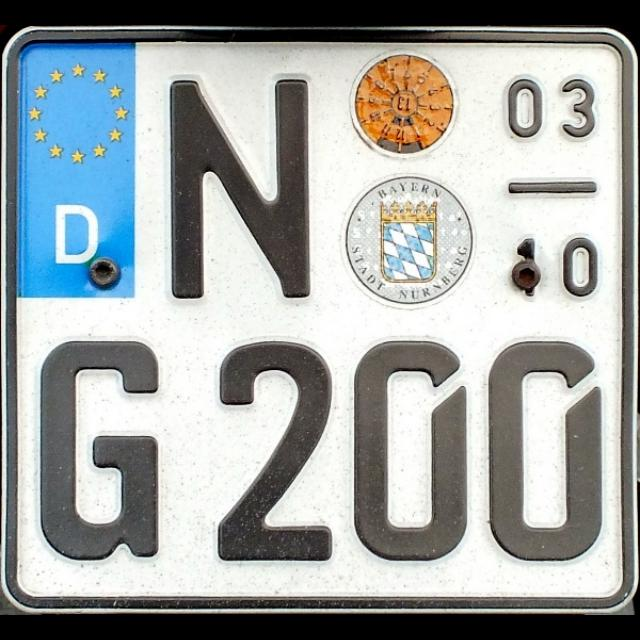d_license_plate: (12, 34, 628, 606)
